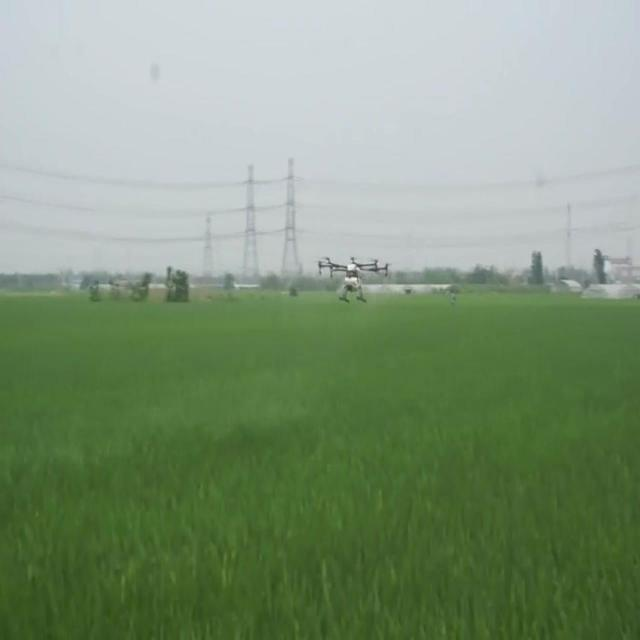UAV: (317, 253, 391, 306)
